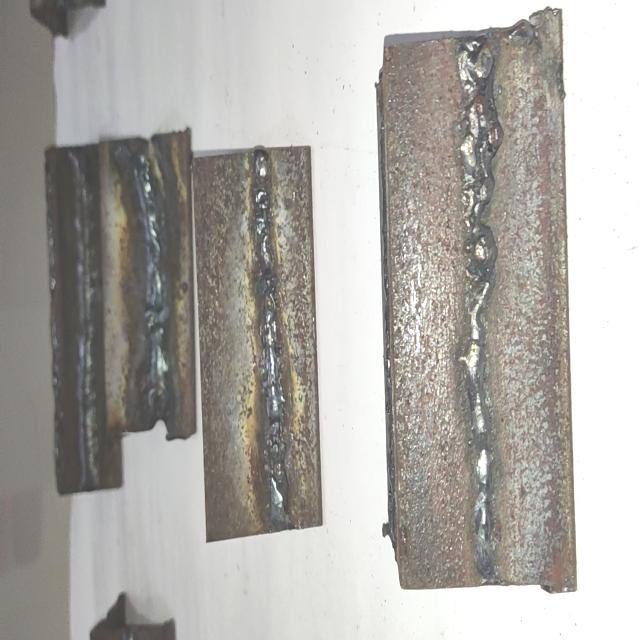Bad Weld: (463, 40, 494, 573), (254, 163, 288, 528), (138, 151, 171, 411)
Defect: (460, 48, 496, 561), (249, 167, 288, 512), (131, 161, 170, 412)
Good Weld: (72, 154, 97, 478)
